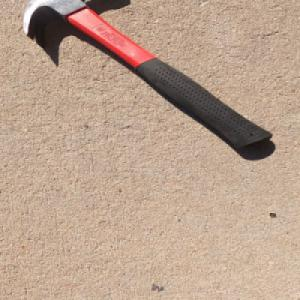Hammer: (18, 0, 276, 151)
